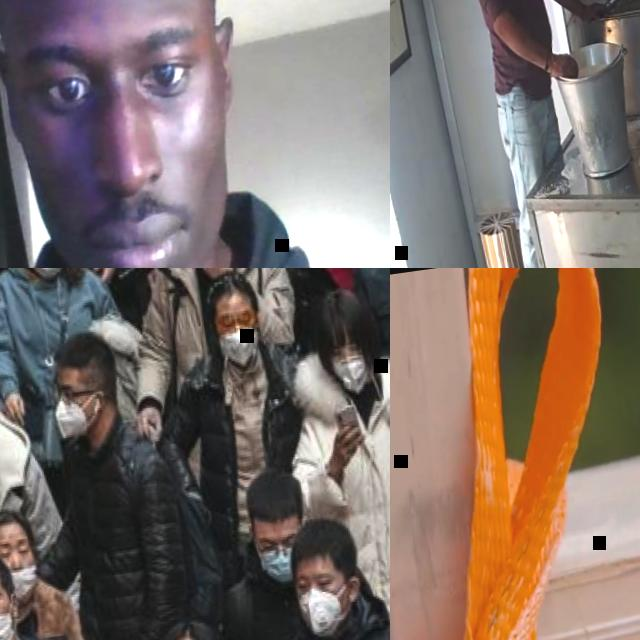Mask: (297, 584, 360, 640), (54, 397, 96, 447), (219, 326, 264, 370), (257, 542, 299, 586), (334, 358, 372, 397), (9, 567, 45, 602), (23, 268, 71, 281), (0, 612, 22, 640)
NO-Hardhat: (291, 516, 366, 574), (242, 466, 308, 529), (310, 284, 371, 348), (51, 326, 118, 378), (203, 268, 258, 311), (160, 614, 217, 640), (0, 505, 26, 541), (0, 546, 10, 586)
NO-Mask: (22, 119, 250, 268)
NO-Safety Vest: (62, 434, 180, 640), (308, 391, 390, 630), (467, 0, 560, 100), (0, 426, 36, 593), (229, 571, 308, 640), (16, 268, 139, 311), (290, 268, 364, 321), (16, 598, 78, 640)
Person: (0, 0, 390, 268), (3, 313, 211, 640), (142, 268, 324, 580), (441, 0, 640, 268), (269, 272, 390, 640), (117, 268, 319, 486), (0, 268, 145, 468), (0, 325, 88, 637), (197, 465, 334, 640), (236, 505, 390, 640), (0, 495, 122, 640), (0, 533, 118, 640), (0, 268, 170, 339), (270, 268, 390, 365), (117, 605, 263, 640)
